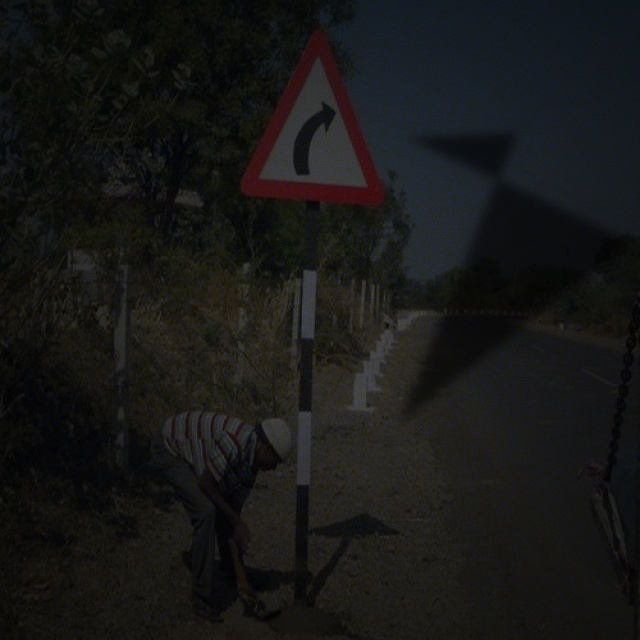Right_Hand_Curve: (241, 31, 385, 207)
